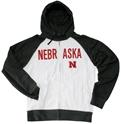C_hoodie: (2, 1, 121, 123)
